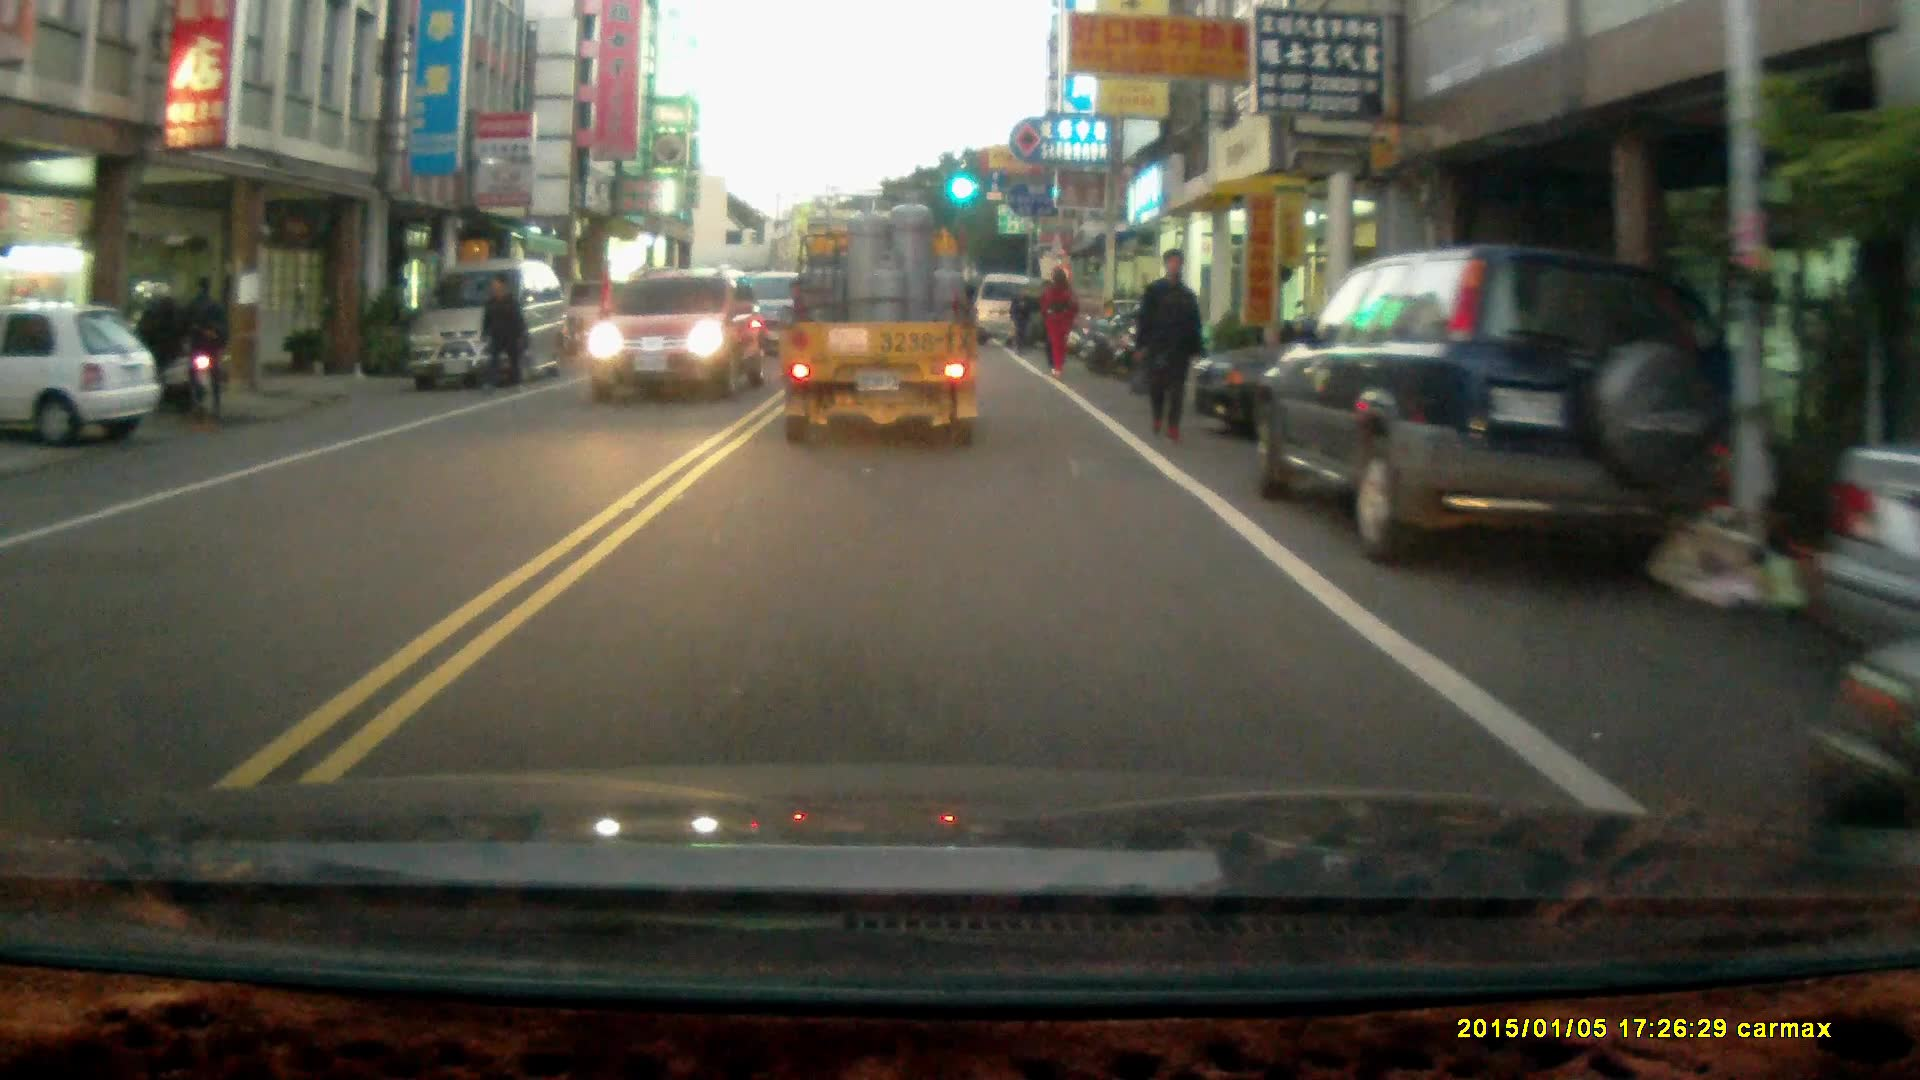pedestrian: (1131, 247, 1204, 445), (178, 273, 226, 422), (474, 269, 524, 398), (1039, 261, 1076, 377), (1007, 281, 1036, 350)
rider: (112, 277, 212, 418)
vehicle: (1252, 239, 1732, 572), (773, 193, 982, 458), (1, 310, 169, 455), (589, 271, 759, 401), (406, 262, 577, 389), (984, 270, 1045, 352)
